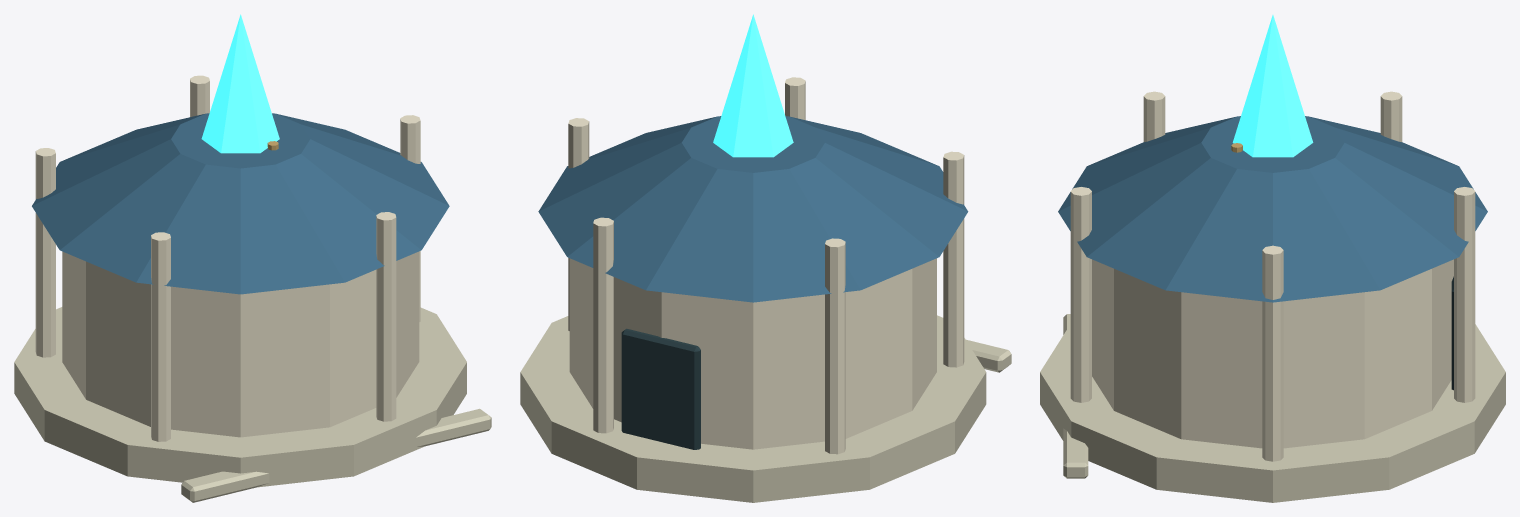
Rendered from level_10.glb.
The picture shows the model from 3 angles, left to right: view 1: azimuth 30°, elevation 25°; view 2: azimuth 150°, elevation 25°; view 3: azimuth 270°, elevation 25°; orthographic projection. The views are drawn at different scales.
Parts seen in each view (by area): view 1: mage_guild — level 10; view 2: mage_guild — level 10; view 3: mage_guild — level 10.
Boxes of the visible parts, bbox=[...] form: mage_guild — level 10: bbox=[14, 14, 491, 502]; mage_guild — level 10: bbox=[520, 14, 1011, 502]; mage_guild — level 10: bbox=[1040, 15, 1505, 502].
Size of the model in its own units: 5.2 by 4.81 by 5.2.
